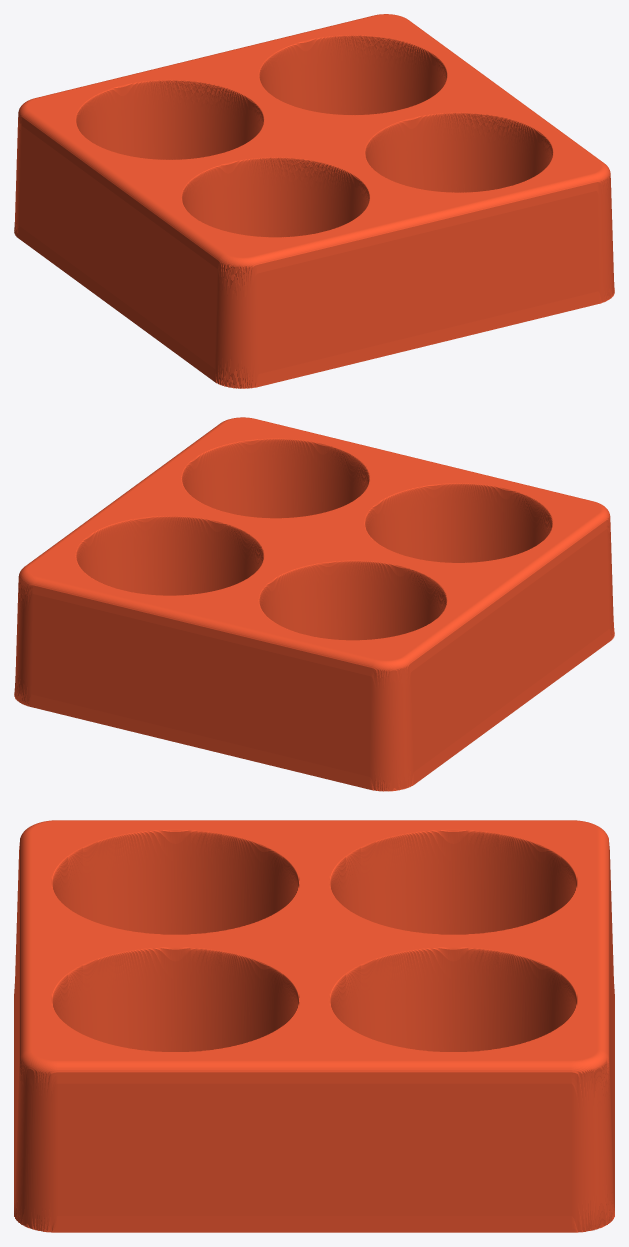
Rendered from mold.glb.
The picture shows the model from 3 angles, top to bottom: view 1: azimuth 30°, elevation 25°; view 2: azimuth 150°, elevation 25°; view 3: azimuth 270°, elevation 25°; orthographic projection. The views are drawn at different scales.
Visible parts, largest first — view 1: geometry_0; view 2: geometry_0; view 3: geometry_0.
Part boxes in pixels (box(x1,y1,x2,y2)): geometry_0: box(14, 14, 614, 388); geometry_0: box(14, 417, 614, 791); geometry_0: box(14, 820, 614, 1232).
Size of the model in its own units: 0.1248 by 0.0377 by 0.1248.
